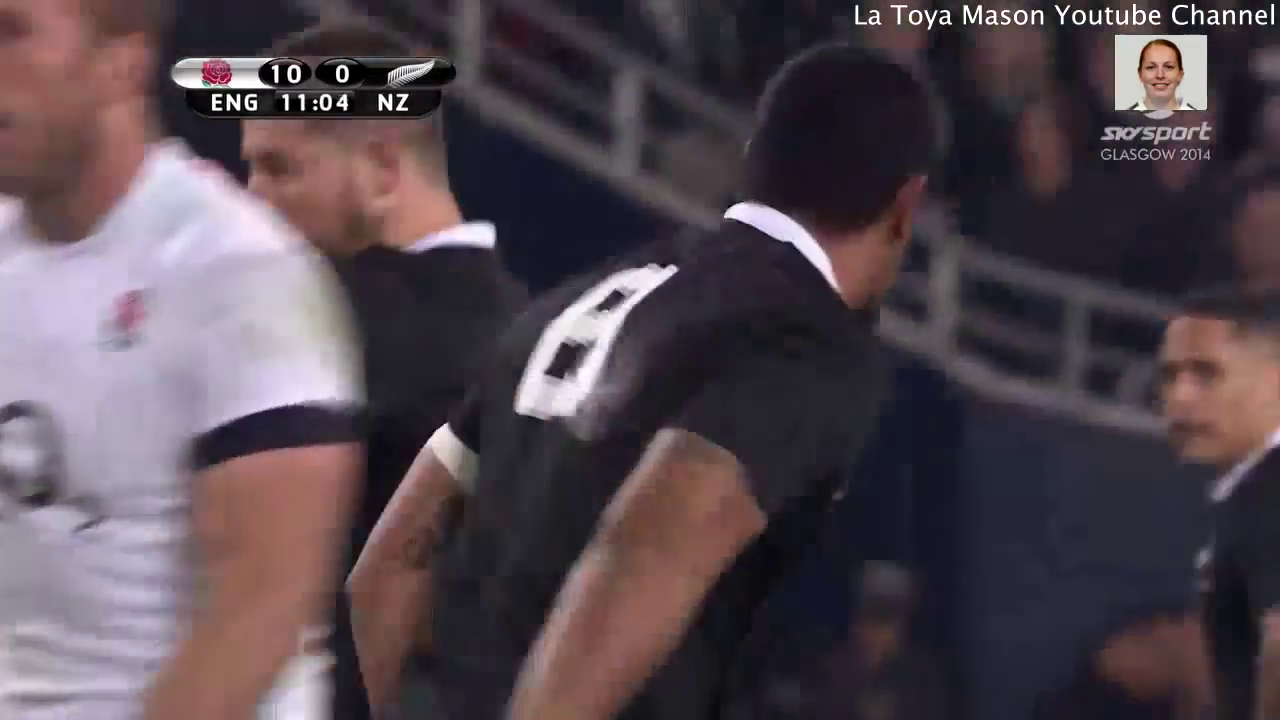player: (334, 44, 949, 720), (1, 1, 349, 720)
